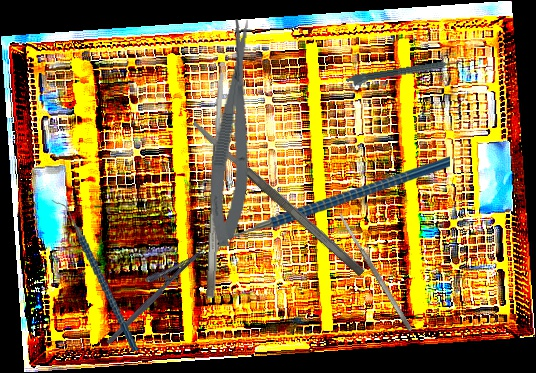Chopper: (214, 156, 450, 261), (51, 191, 139, 360)
Handpiece: (345, 58, 461, 89)
Micro Scissor: (203, 18, 266, 248)
Needle Holder: (93, 236, 205, 346)
Spatula Surgical: (190, 117, 366, 279), (336, 210, 414, 333), (204, 71, 228, 299)
